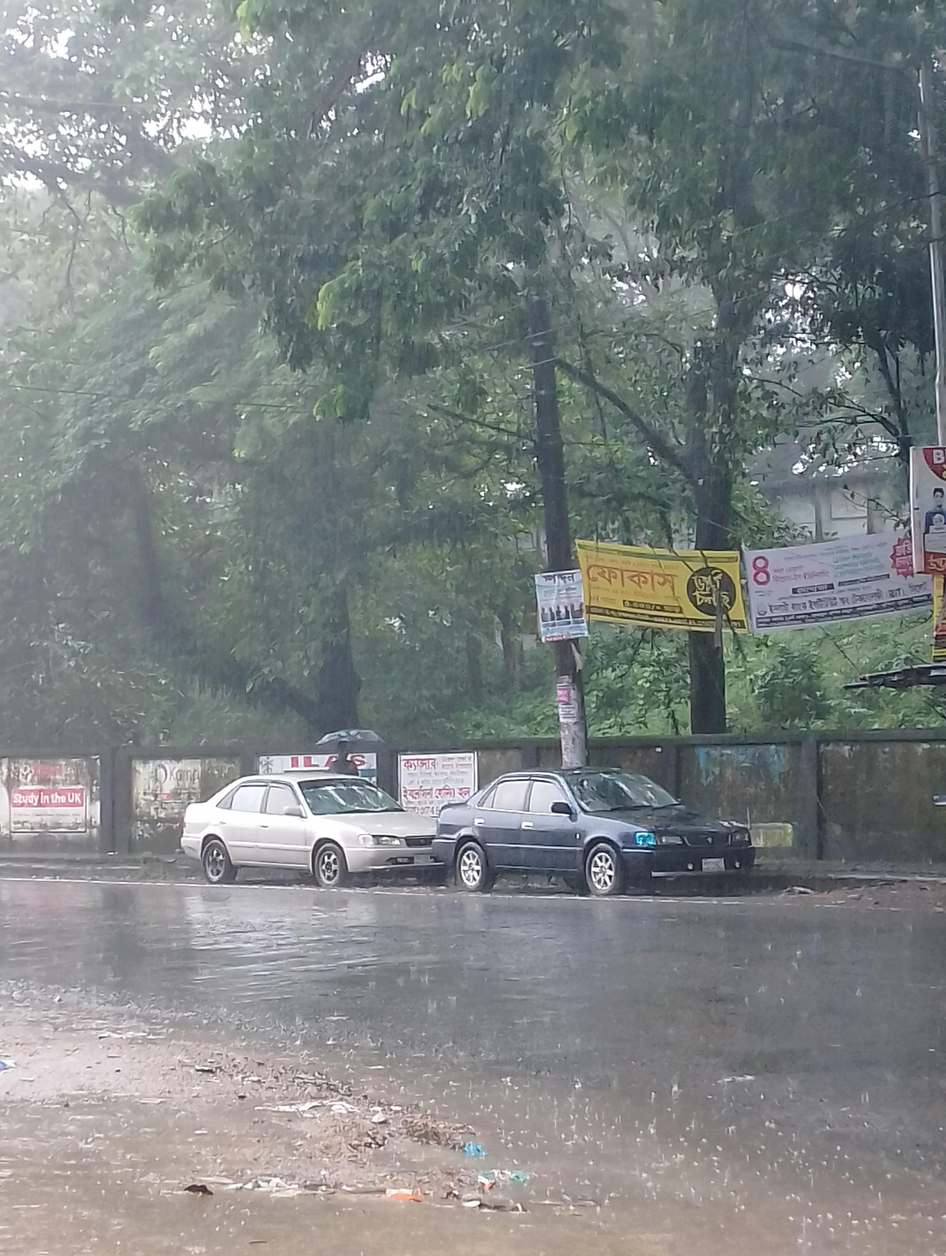Car: (431, 761, 758, 928), (169, 742, 446, 899)
